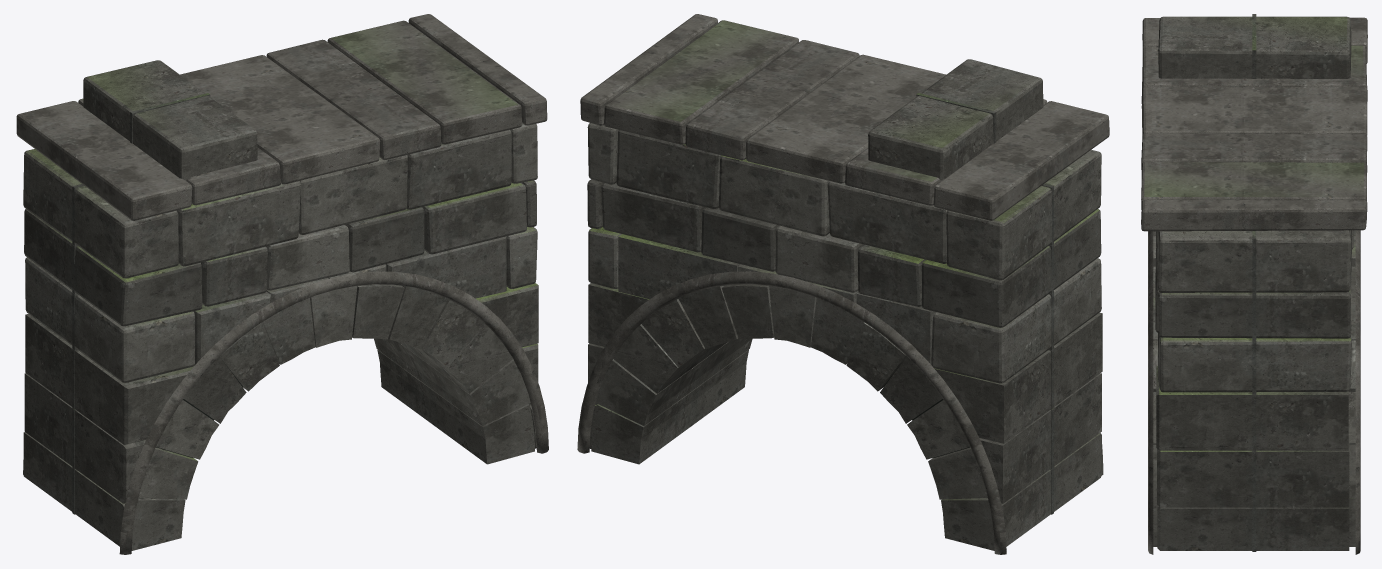
The model's file is ER_Ecoincon_Profond_4m5.gltf.
3 views of the same model, side by side, from view 1: azimuth 30°, elevation 25°; view 2: azimuth 150°, elevation 25°; view 3: azimuth 270°, elevation 25° (orthographic). The views are drawn at different scales.
Visible parts, largest first — view 1: ER_Ecoincon_Profond_4m5_P.001, ER_Ecoincon_Profond_4m5_MOUL.001, ER_Ecoincon_Profond_4m5_PS.001; view 2: ER_Ecoincon_Profond_4m5_P.001, ER_Ecoincon_Profond_4m5_MOUL.001, ER_Ecoincon_Profond_4m5_PS.001; view 3: ER_Ecoincon_Profond_4m5_P.001, ER_Ecoincon_Profond_4m5_MOUL.001, ER_Ecoincon_Profond_4m5_PS.001.
Part boxes in pixels (bbox=[...]): ER_Ecoincon_Profond_4m5_P.001: bbox=[23, 60, 538, 550]; ER_Ecoincon_Profond_4m5_MOUL.001: bbox=[16, 14, 548, 554]; ER_Ecoincon_Profond_4m5_PS.001: bbox=[72, 93, 210, 514]; ER_Ecoincon_Profond_4m5_P.001: bbox=[587, 59, 1103, 550]; ER_Ecoincon_Profond_4m5_MOUL.001: bbox=[577, 14, 1109, 554]; ER_Ecoincon_Profond_4m5_PS.001: bbox=[916, 93, 1053, 514]; ER_Ecoincon_Profond_4m5_P.001: bbox=[1153, 16, 1355, 550]; ER_Ecoincon_Profond_4m5_MOUL.001: bbox=[1141, 17, 1367, 554]; ER_Ecoincon_Profond_4m5_PS.001: bbox=[1252, 14, 1256, 551].
Size of the model in its own units: 4.64 by 4 by 2.22.
4 materials, 3 textured.
